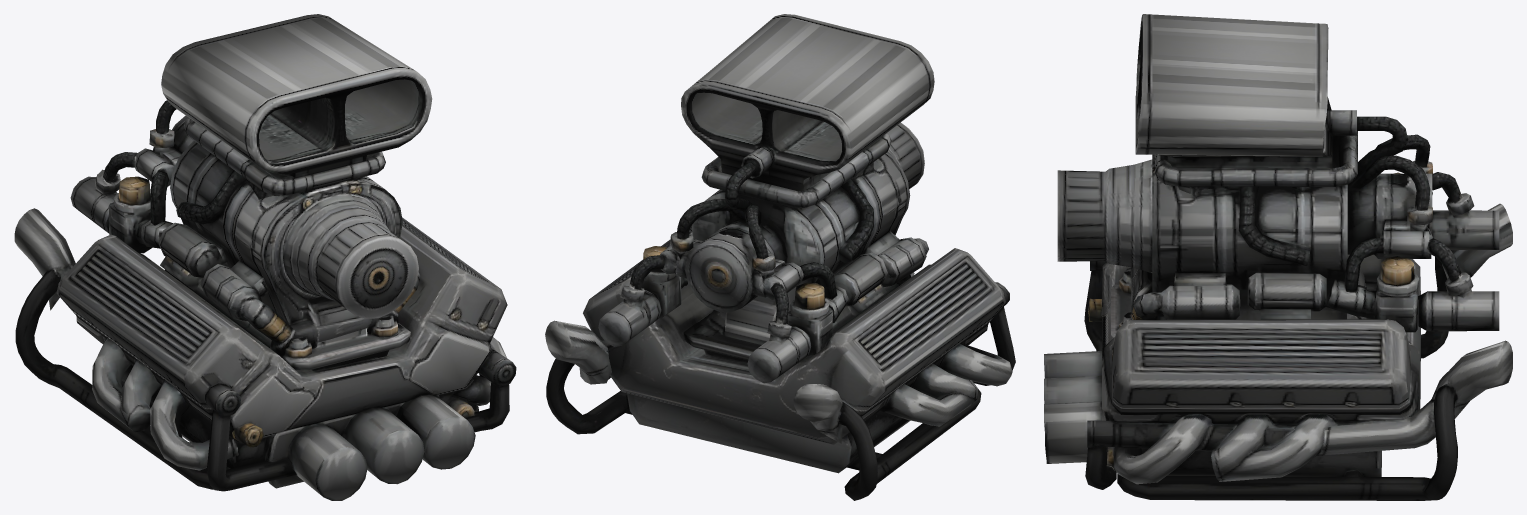
Rendered from kaeferkraft-big_engine.glb.
3 views of the same model, side by side, from view 1: azimuth 30°, elevation 25°; view 2: azimuth 150°, elevation 25°; view 3: azimuth 270°, elevation 25° (orthographic). The views are drawn at different scales.
Parts seen in each view (by area): view 1: tripo_node_8f9c8e9d-b794-4426-a5be-a2ef89b7af94; view 2: tripo_node_8f9c8e9d-b794-4426-a5be-a2ef89b7af94; view 3: tripo_node_8f9c8e9d-b794-4426-a5be-a2ef89b7af94.
Boxes of the visible parts, left/top/right/bottom form: tripo_node_8f9c8e9d-b794-4426-a5be-a2ef89b7af94: left=14, top=14, right=516, bottom=500; tripo_node_8f9c8e9d-b794-4426-a5be-a2ef89b7af94: left=545, top=14, right=1015, bottom=500; tripo_node_8f9c8e9d-b794-4426-a5be-a2ef89b7af94: left=1044, top=14, right=1512, bottom=500.
Size of the model in its own units: 0.7372 by 0.75 by 0.8172.
1 material, 1 textured.
